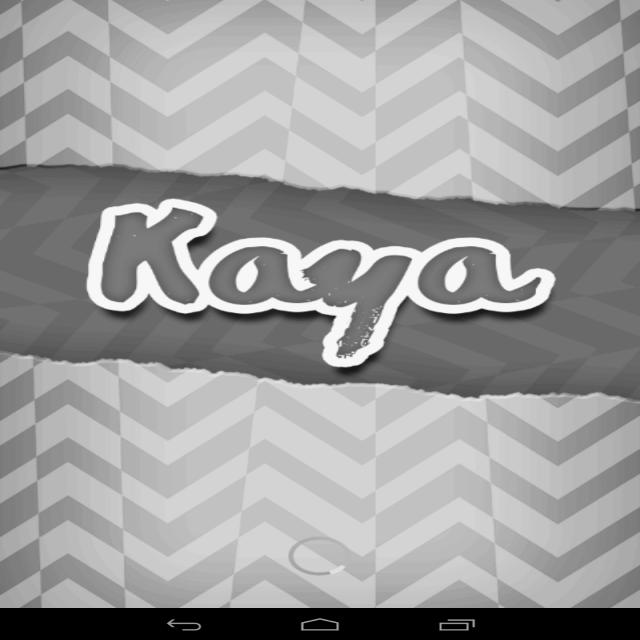ImageView: (59, 194, 564, 367)
Spinner: (278, 532, 362, 578)
